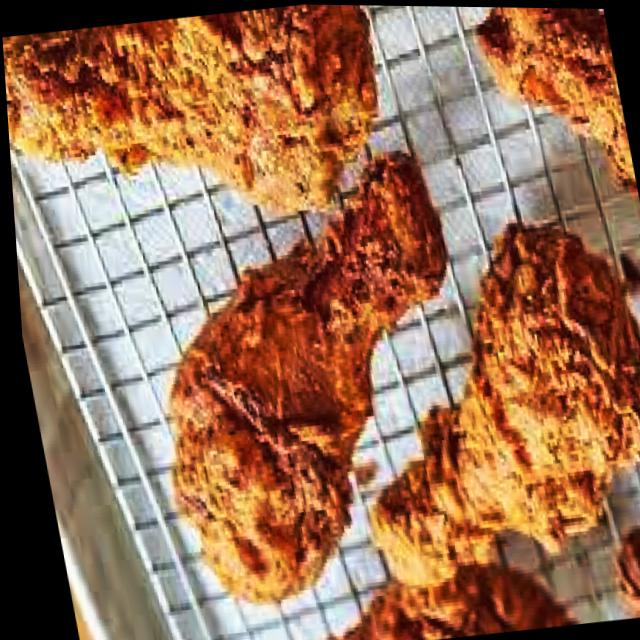fried_chicken: (119, 135, 515, 630), (315, 213, 640, 623), (0, 0, 411, 260)
